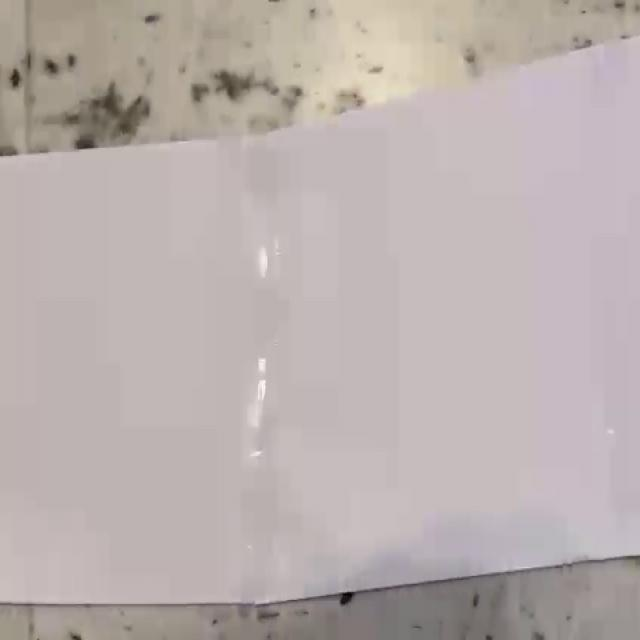road: (0, 37, 640, 603)
